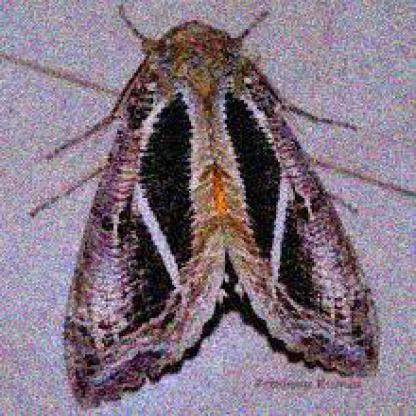fruit sucking moth: (62, 21, 386, 412)
